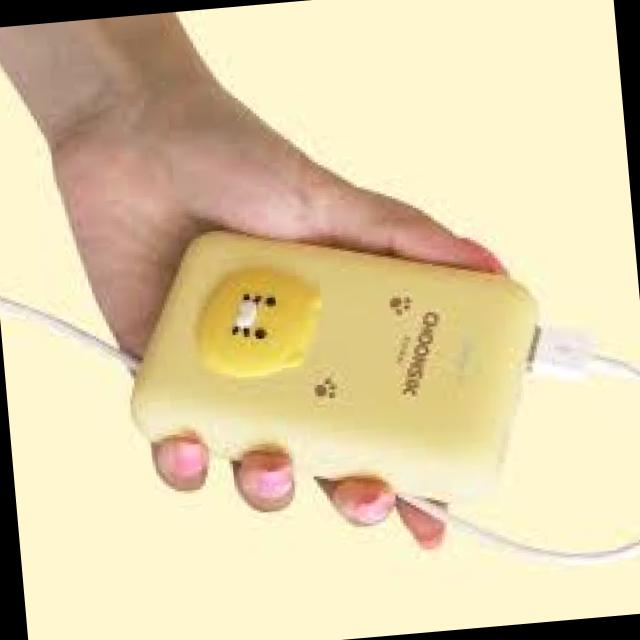portable-charger: (116, 196, 554, 532)
